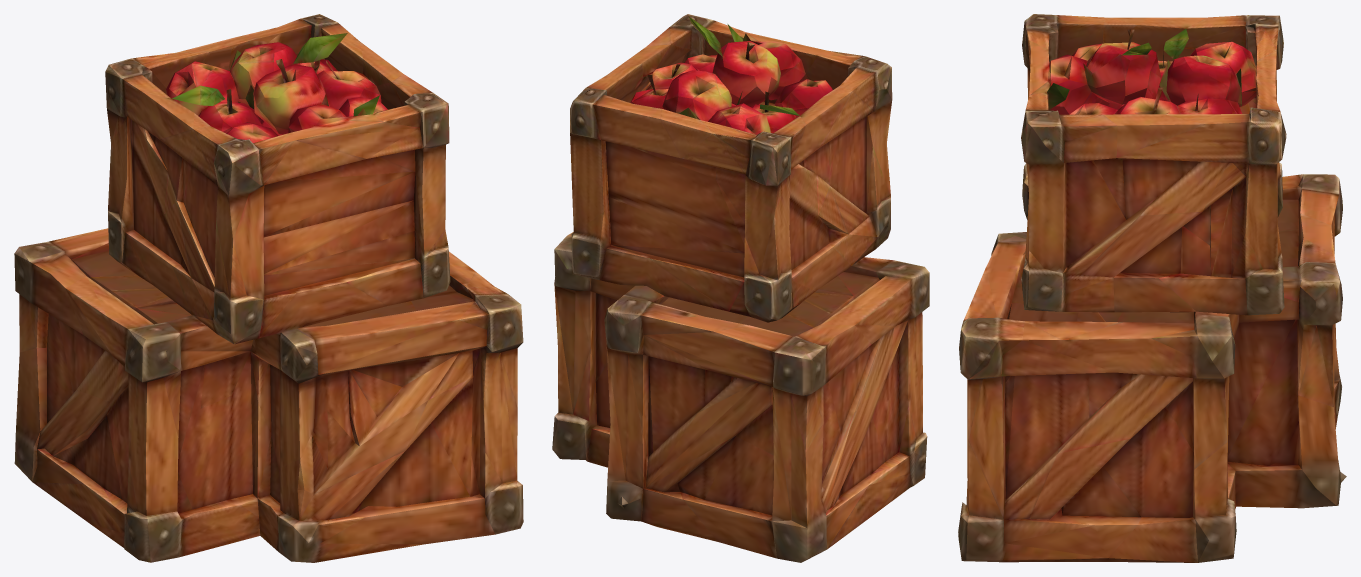
File: prop_crates.glb
3 views of the same model, side by side, from view 1: azimuth 30°, elevation 25°; view 2: azimuth 150°, elevation 25°; view 3: azimuth 270°, elevation 25° (orthographic). The views are drawn at different scales.
Visible parts, largest first — view 1: output_unwrapped; view 2: output_unwrapped; view 3: output_unwrapped.
Boxes of the visible parts, left/top/right/bottom form: output_unwrapped: left=14, top=14, right=523, bottom=562; output_unwrapped: left=552, top=14, right=929, bottom=562; output_unwrapped: left=958, top=14, right=1346, bottom=562.
Bounding box in the file's own units: 1.46 × 1.9 × 1.44.
1 material, 1 textured.
